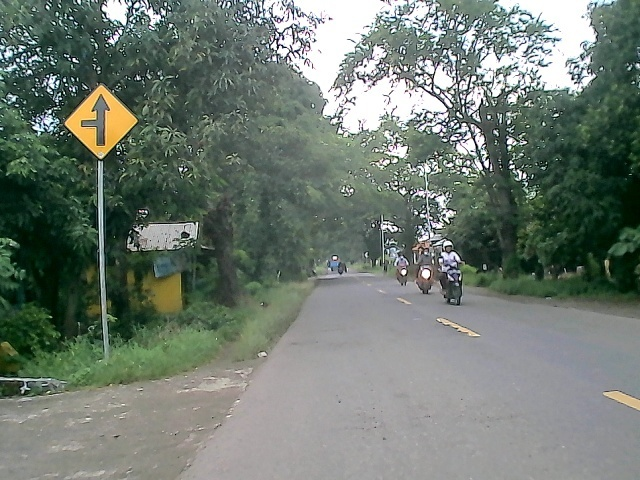Simpang kiri dengan prioritas: (60, 82, 141, 164)
